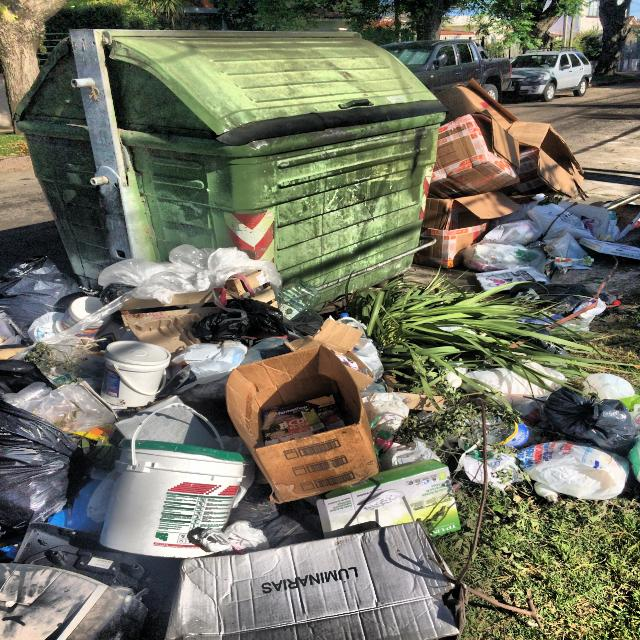garbage: (0, 424, 494, 637), (11, 248, 332, 535), (423, 88, 640, 290), (432, 309, 640, 505)
